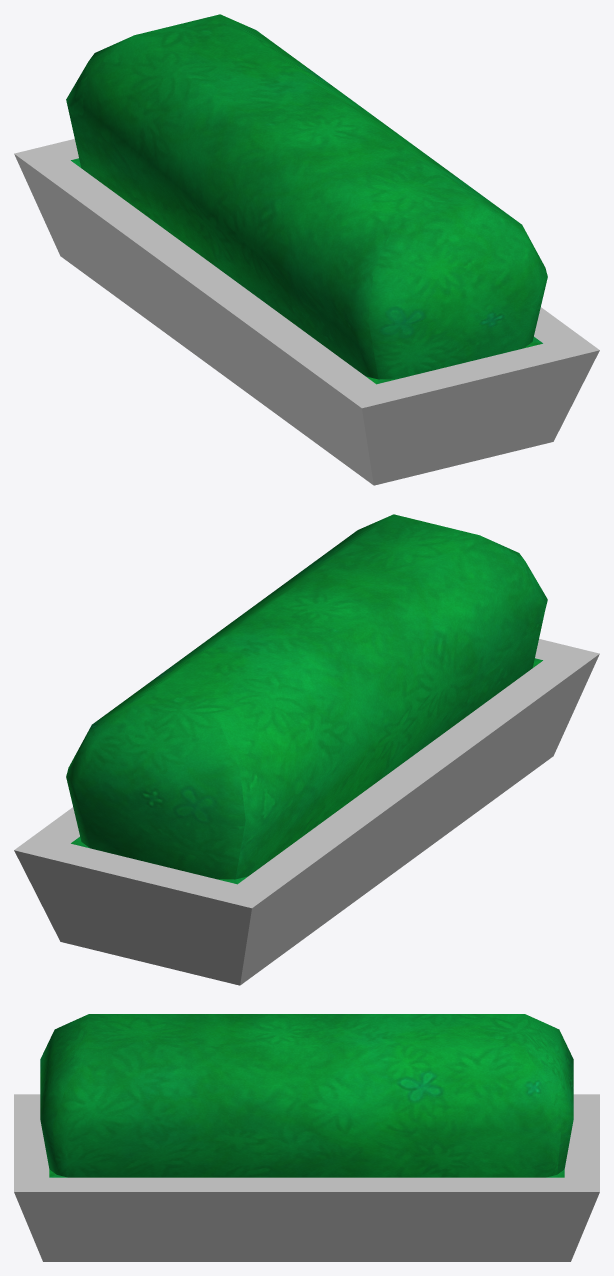
Rendered from Plant01_c02.FBX.
The picture shows the model from 3 angles, top to bottom: view 1: azimuth 30°, elevation 25°; view 2: azimuth 150°, elevation 25°; view 3: azimuth 270°, elevation 25°; orthographic projection. The views are drawn at different scales.
Parts seen in each view (by area): view 1: Plant01_c02; view 2: Plant01_c02; view 3: Plant01_c02.
Part boxes in pixels (x1,y1,x2,y2): Plant01_c02: (14,14,599,485); Plant01_c02: (14,514,599,985); Plant01_c02: (14,1014,599,1261).
Bounding box in the file's own units: 121 × 111 × 306.
